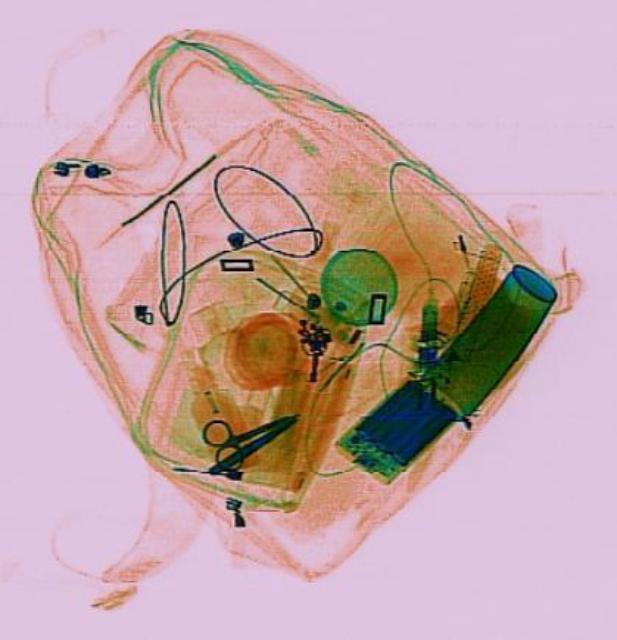Scissors: (193, 391, 302, 475)
